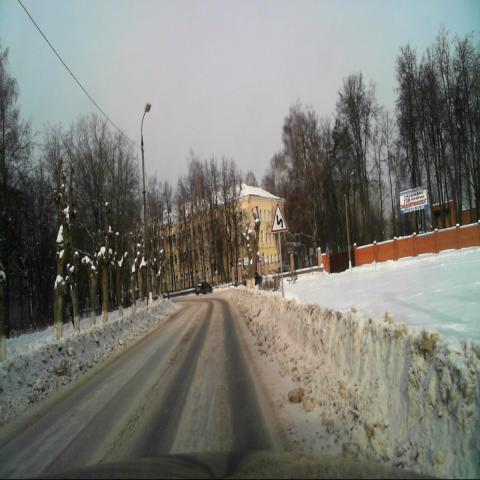1_12_2: (271, 202, 288, 232)
